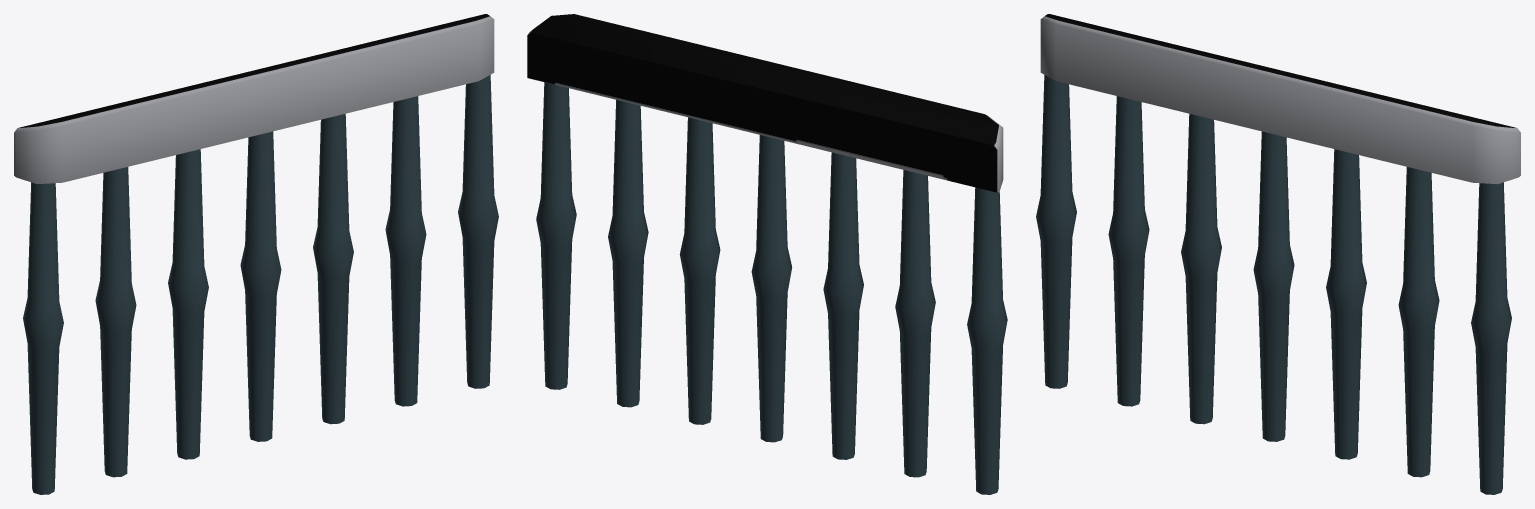
The model's file is ItemCage_Gate.fbx.
3 views of the same model, side by side, from view 1: azimuth 30°, elevation 25°; view 2: azimuth 150°, elevation 25°; view 3: azimuth 330°, elevation 25° (orthographic).
Parts seen in each view (by area): view 1: ItemCage_Gate; view 2: ItemCage_Gate; view 3: ItemCage_Gate.
Part boxes in pixels (x1,y1,x2,y2): ItemCage_Gate: (14,14,498,494); ItemCage_Gate: (527,14,1007,494); ItemCage_Gate: (1036,14,1520,494).
Size of the model in its own units: 62.19 by 46.51 by 4.82.
Materials: 1 (1 with a texture image).
